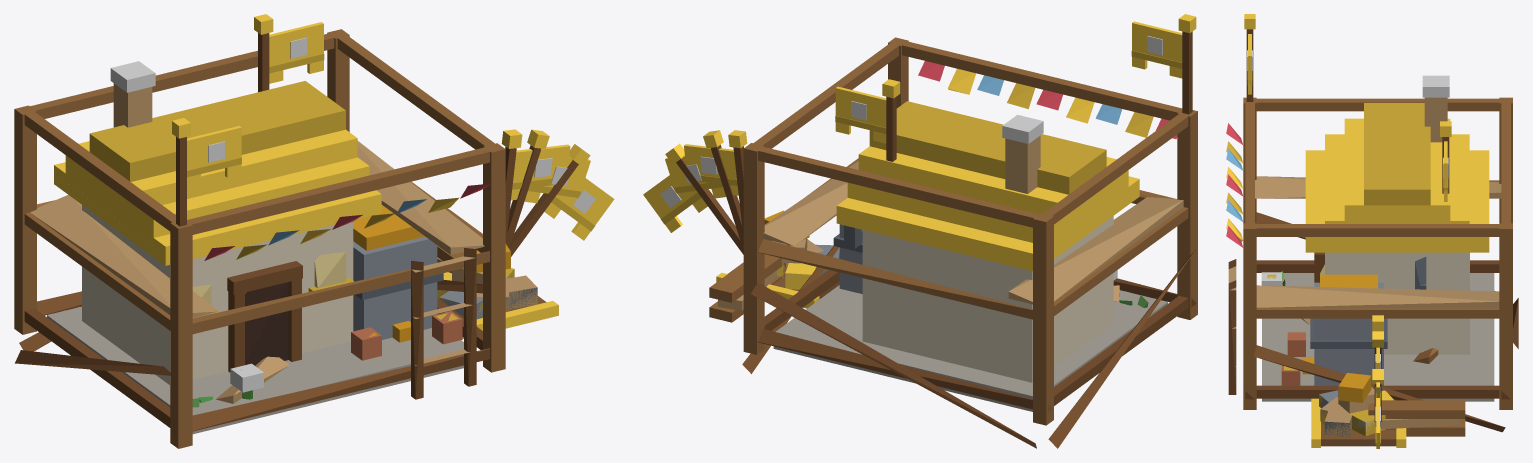
Rendered from bee-research.glb.
3 renders of one model, left to right at view 1: azimuth 30°, elevation 25°; view 2: azimuth 150°, elevation 25°; view 3: azimuth 270°, elevation 25°, orthographic. The views are drawn at different scales.
Visible parts, largest first — view 1: scaffold-mesh, built-mesh, dismantle-75-mesh, dismantle-50-mesh, dismantle-25-mesh, banner, scaffold-banner, dismantle-25-banner, dismantle-75-banner, dismantle-50-banner, dismantle-25-flag-pole, scaffold-flag-pole (+3 smaller); view 2: scaffold-mesh, dismantle-75-mesh, built-mesh, dismantle-50-mesh, dismantle-25-mesh, banner, scaffold-banner, dismantle-25-banner, dismantle-75-banner, dismantle-50-banner, dismantle-25-flag-pole, scaffold-flag-pole (+3 smaller); view 3: scaffold-mesh, built-mesh, dismantle-75-mesh, dismantle-25-mesh, dismantle-50-mesh, scaffold-flag-pole, flag-pole, banner, scaffold-banner, dismantle-25-flag-pole.
Part boxes in pixels (x1,y1,x2,y2): scaffold-mesh: (14, 29, 505, 448); built-mesh: (51, 61, 463, 434); dismantle-75-mesh: (47, 155, 558, 415); dismantle-50-mesh: (47, 227, 558, 405); dismantle-25-mesh: (47, 244, 558, 407); banner: (269, 22, 324, 83); scaffold-banner: (187, 126, 241, 187); dismantle-25-banner: (544, 170, 614, 240); dismantle-75-banner: (511, 144, 570, 200); dismantle-50-banner: (524, 154, 590, 208); dismantle-25-flag-pole: (509, 144, 590, 256); scaffold-flag-pole: (172, 118, 190, 226); scaffold-mesh: (709, 37, 1197, 448); dismantle-75-mesh: (775, 170, 1167, 411); built-mesh: (836, 101, 1167, 386); dismantle-50-mesh: (716, 228, 1148, 410); dismantle-25-mesh: (716, 210, 1145, 410); banner: (835, 86, 886, 143); scaffold-banner: (1131, 21, 1182, 78); dismantle-25-banner: (643, 169, 707, 232); dismantle-75-banner: (684, 144, 738, 195); dismantle-50-banner: (665, 153, 726, 203); dismantle-25-flag-pole: (665, 143, 743, 254); scaffold-flag-pole: (1178, 14, 1196, 114); scaffold-mesh: (1226, 97, 1518, 436); built-mesh: (1283, 75, 1489, 356); dismantle-75-mesh: (1262, 257, 1494, 447); dismantle-25-mesh: (1282, 274, 1438, 447); dismantle-50-mesh: (1281, 271, 1406, 446); scaffold-flag-pole: (1244, 14, 1255, 101); flag-pole: (1440, 121, 1451, 193); banner: (1443, 141, 1448, 201); scaffold-banner: (1247, 34, 1252, 94); dismantle-25-flag-pole: (1372, 369, 1383, 421).
Size of the model in its own units: 2.57 by 1.65 by 1.51.
